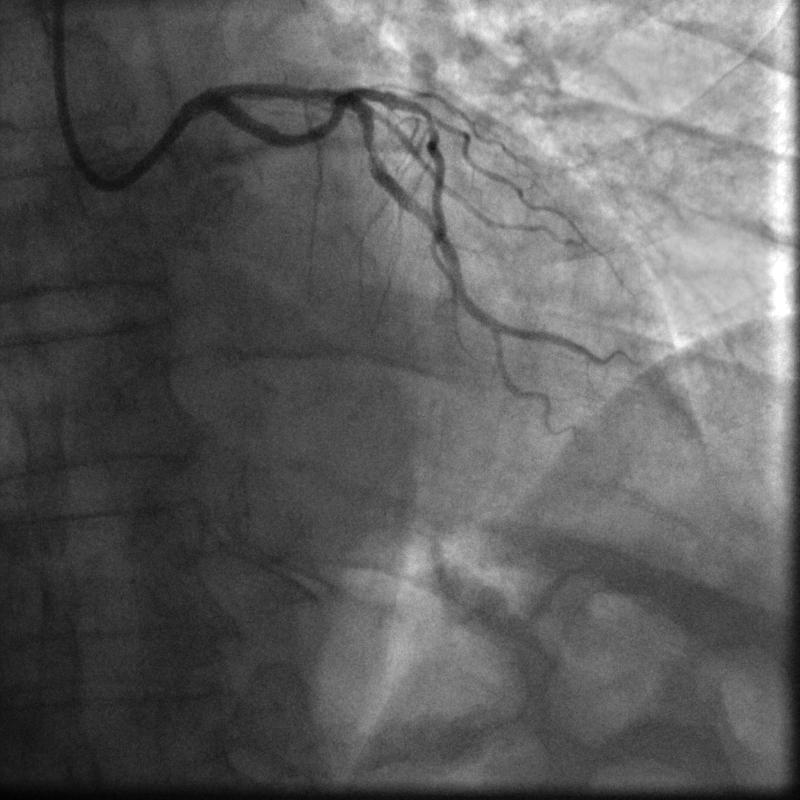Stenosis: (363, 139, 379, 160)
